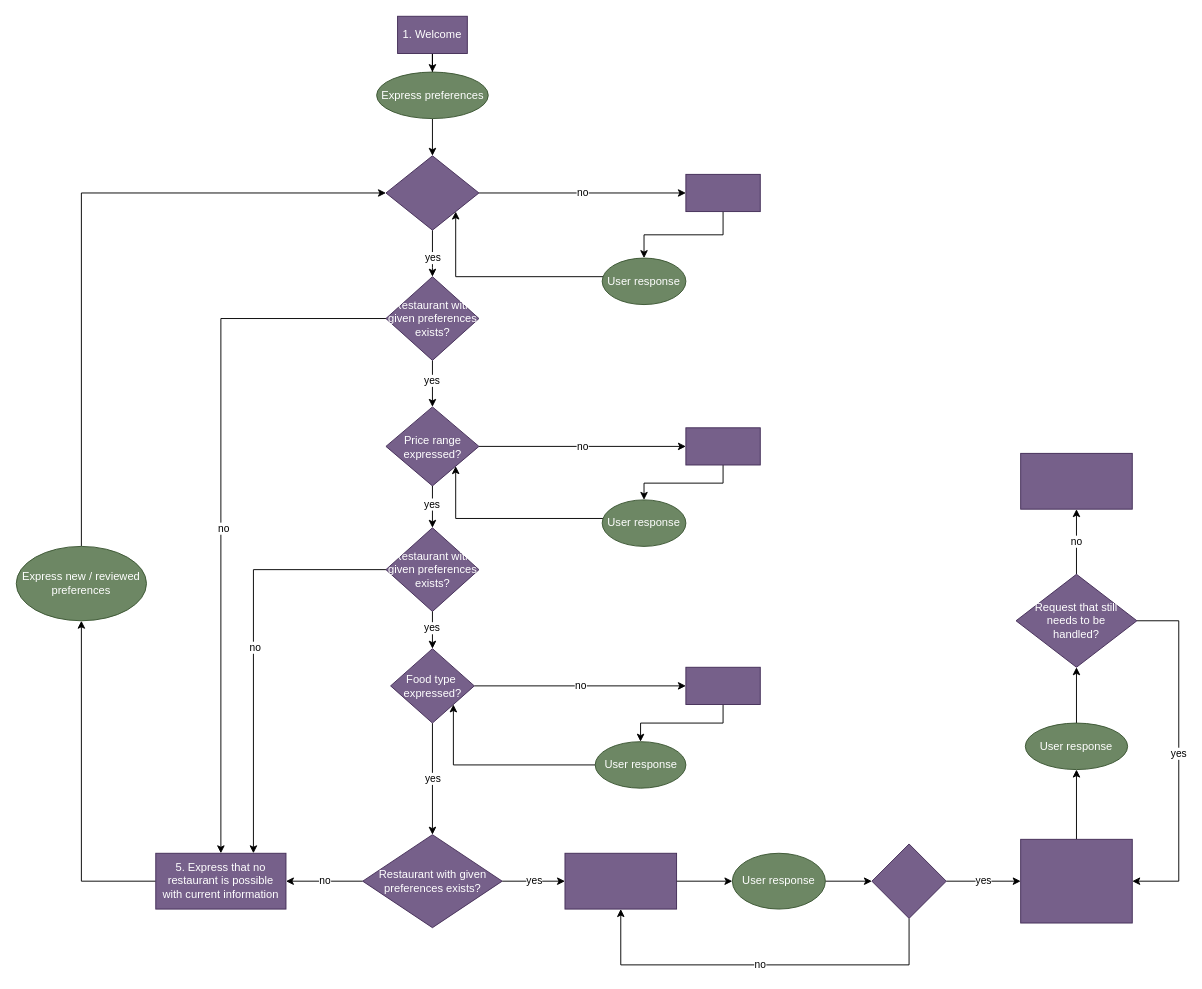
This 1202x989 diagram has some shape labels left out. Here are the shapes that lost their labels. From the top down, the box of each, then its label:
(385, 155, 479, 230): Area expressed?
(685, 173, 760, 212): 2. Ask area
(685, 427, 760, 465): 3. Ask price range
(1020, 452, 1132, 509): 8. Goodbye
(685, 666, 760, 704): 4. Ask food type
(564, 852, 677, 909): 6. Suggest Restaurant
(871, 843, 946, 918): User agrees?
(1020, 838, 1132, 923): 7. Provide restaurant details (such as phone number, address, postal code etc.)
